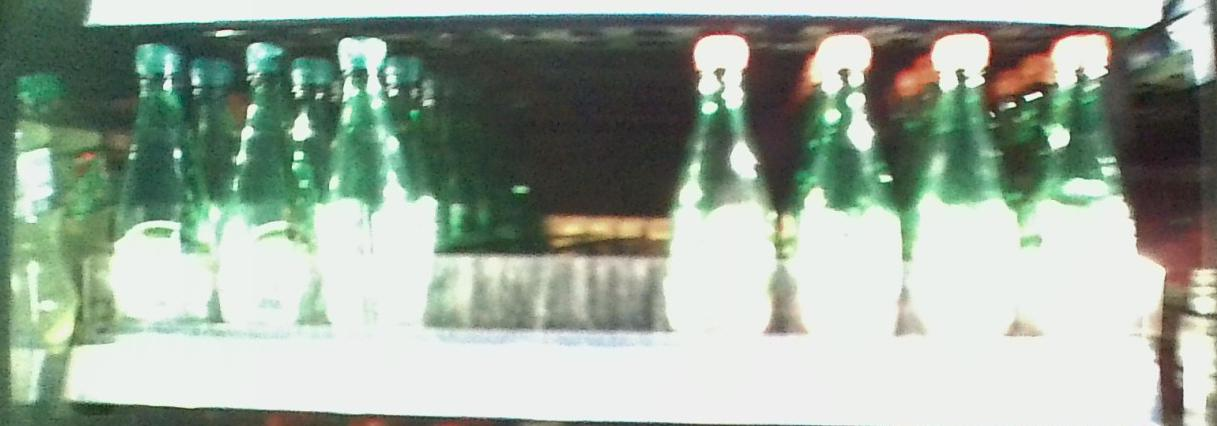bottle: (785, 25, 902, 344), (1027, 35, 1141, 352), (907, 34, 1021, 346), (665, 32, 778, 341), (115, 40, 214, 340), (320, 37, 412, 341), (221, 40, 312, 339)
